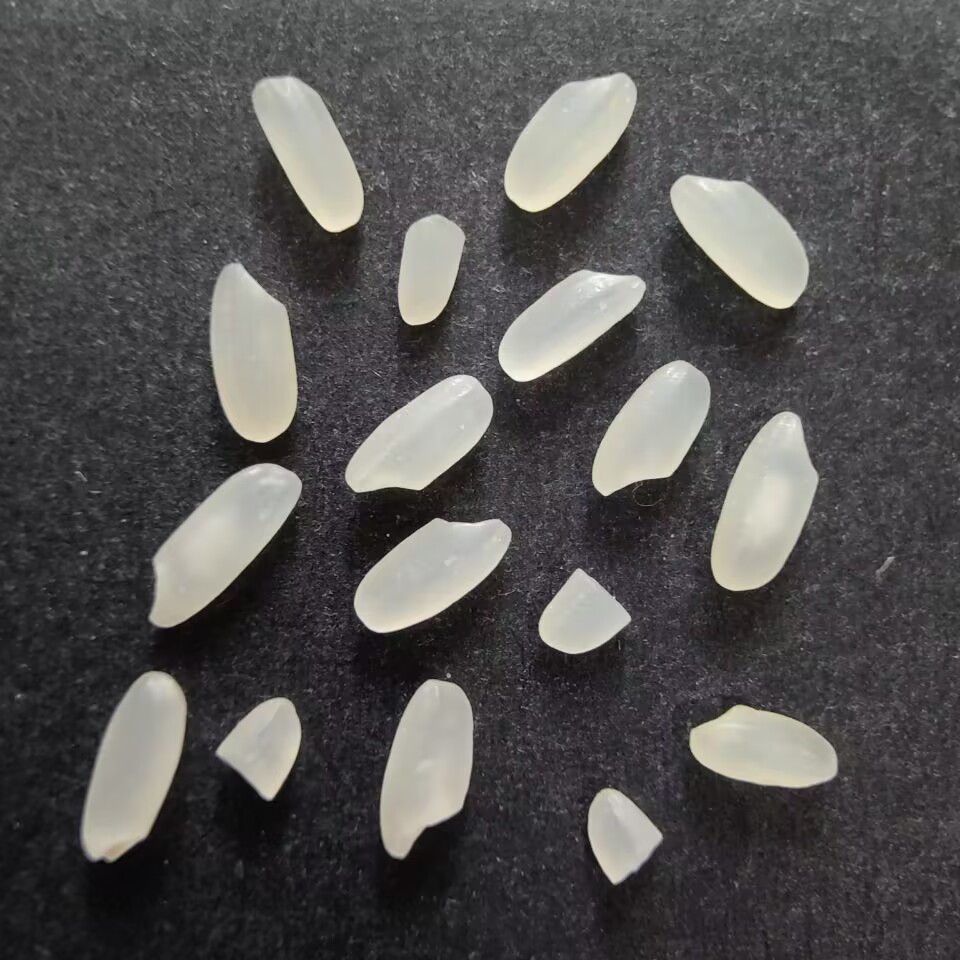broken: (211, 694, 304, 805), (536, 563, 633, 658), (391, 211, 465, 330), (579, 786, 666, 886)
rice: (141, 459, 303, 634), (80, 665, 187, 870), (705, 410, 819, 596), (666, 170, 813, 313), (349, 509, 512, 637), (498, 67, 639, 214), (341, 372, 497, 500), (377, 676, 479, 865), (250, 73, 368, 235), (496, 264, 648, 382), (588, 356, 713, 499), (208, 261, 301, 443), (685, 700, 841, 791)
